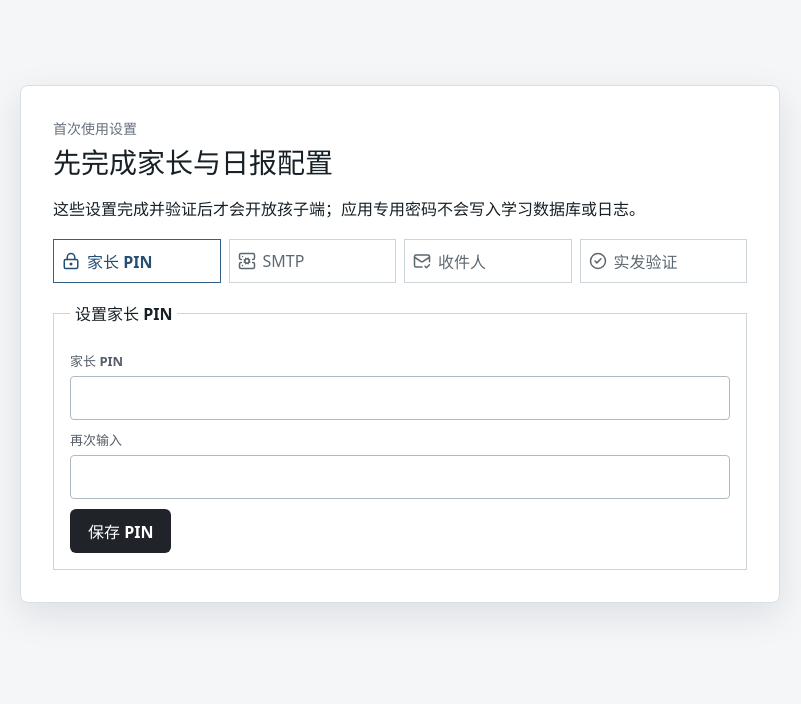
requires a new explicit password after 初始化SMTP用户名 changes and never sends the old protected secret
Type "2468" into the password field named "初始化家长PIN".
click(400, 398); type("2468")  # box [70,376,730,420]
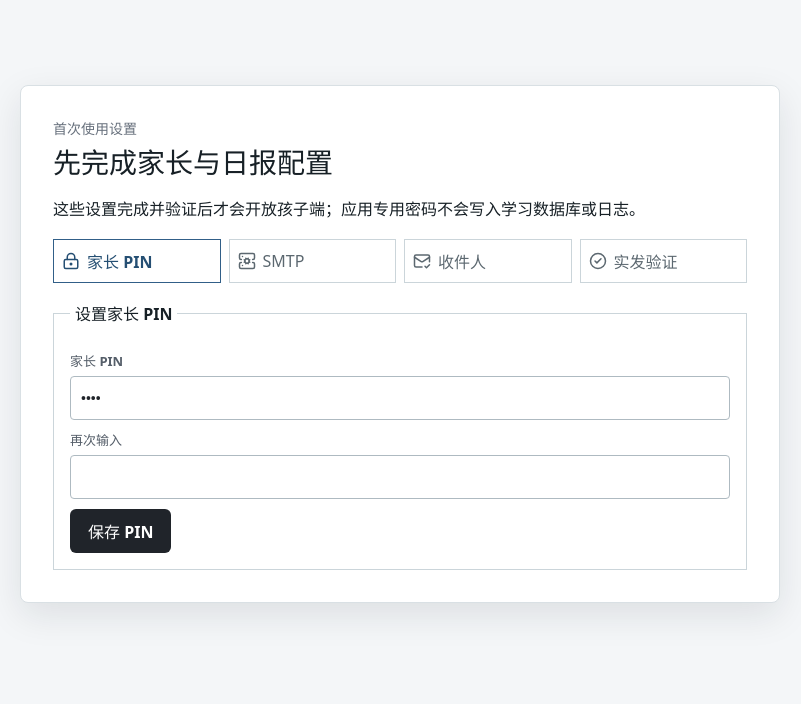
Type "2468" into the password field named "再次输入家长PIN".
click(400, 477); type("2468")  # box [70,455,730,499]
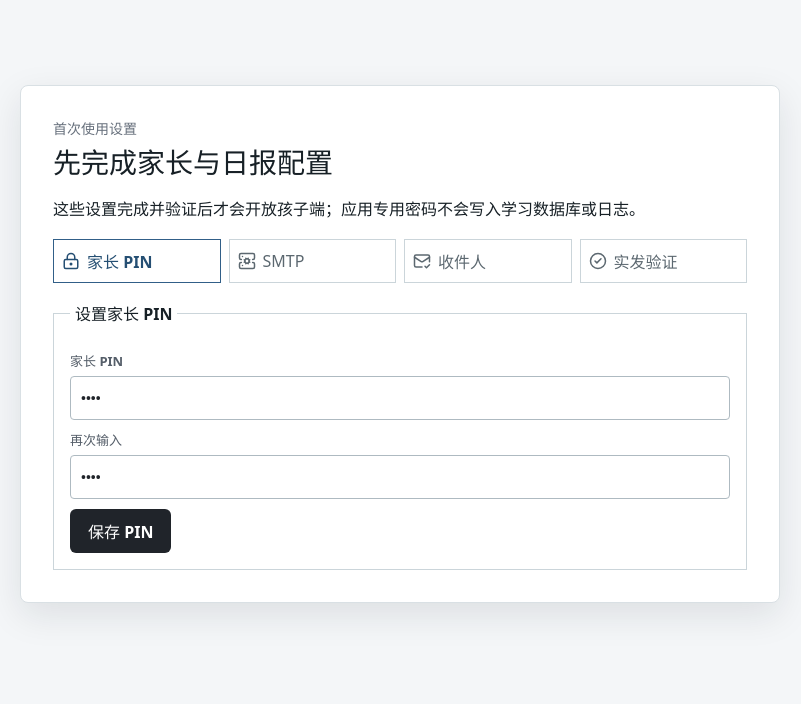
Click the button "保存 PIN".
click(121, 531)  # box [70,509,172,553]
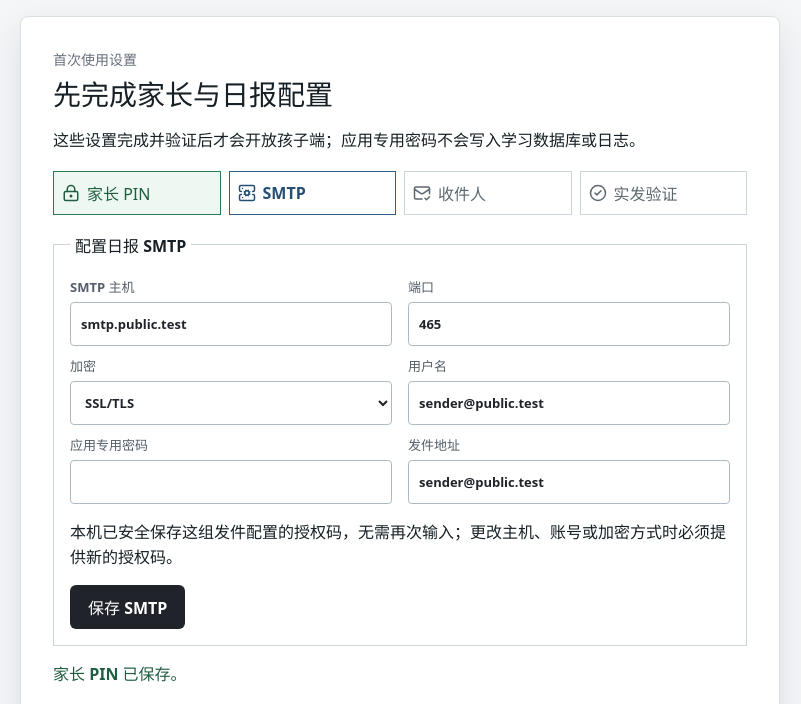
Result: the field named "初始化SMTP主机" holds "smtp.public.test" at [70,302,392,346]
Replace the text in the field named "初始化SMTP用户名" with "other@public.test" at (569, 403), box [408,381,730,425]
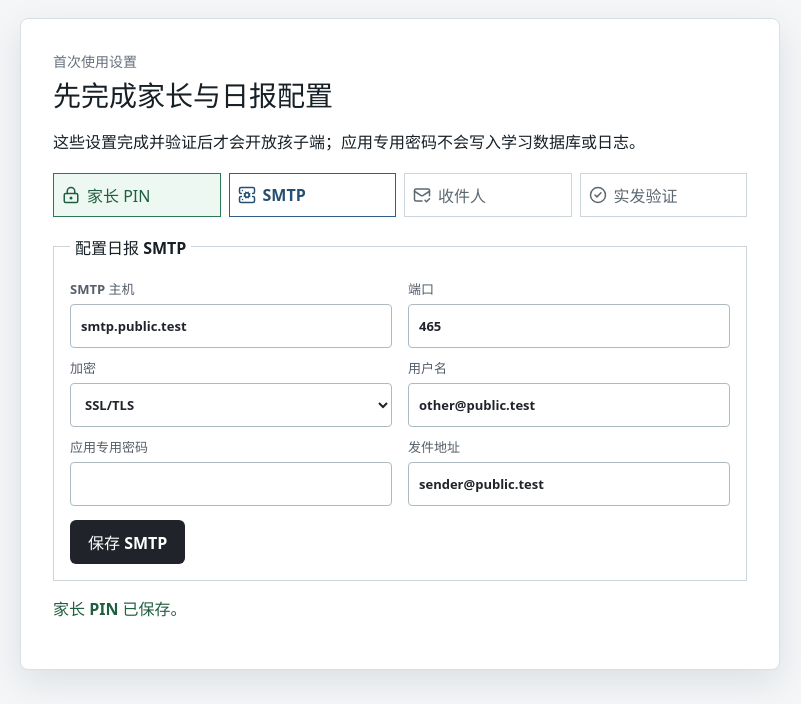
Click the button "保存 SMTP".
click(128, 542)  # box [70,520,185,564]
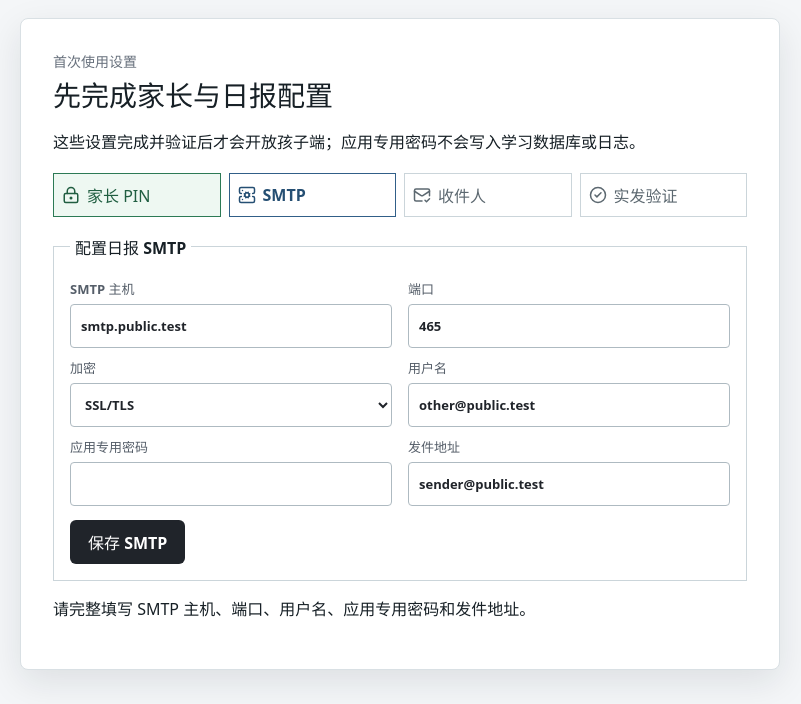
Result: the message shows "请完整填写" at [53,598,535,620]
